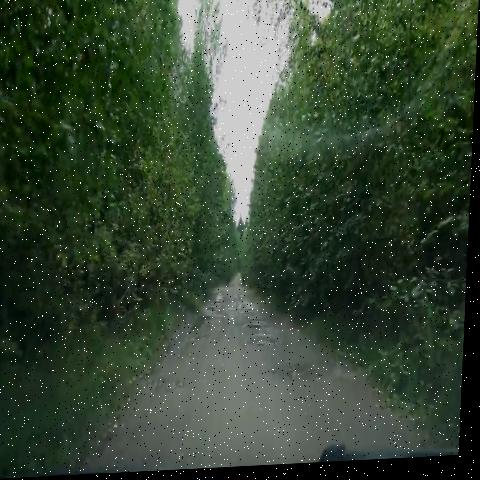pothole: (271, 362, 333, 396), (142, 373, 194, 403), (247, 329, 287, 359), (193, 309, 225, 336), (245, 317, 280, 340), (185, 329, 215, 351), (206, 293, 230, 319), (237, 303, 261, 321)
